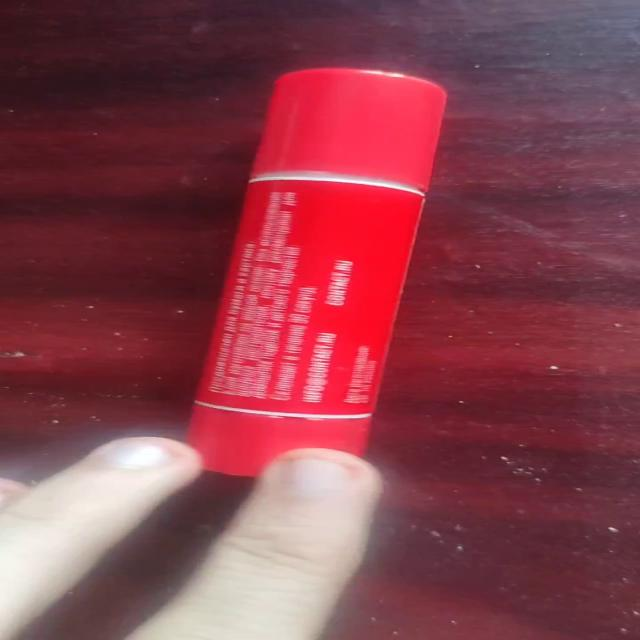glue: (183, 66, 447, 478)
